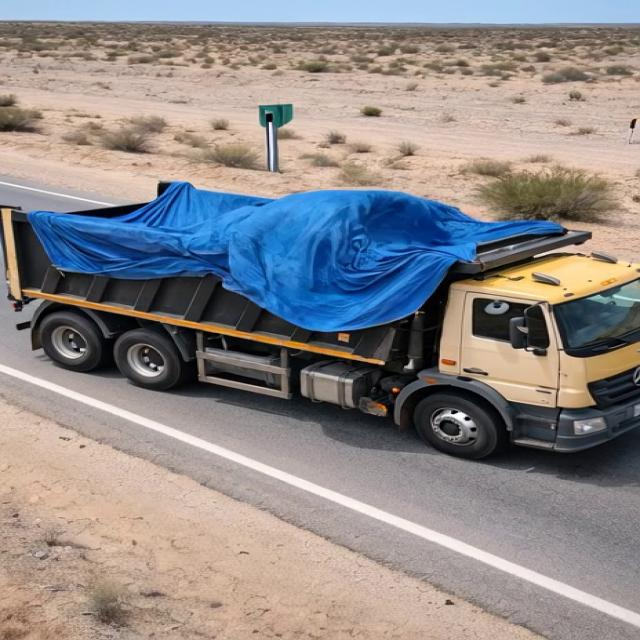trailer: (0, 184, 597, 274)
truck: (5, 163, 638, 431)
